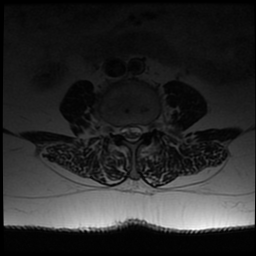CCS_normal: (127, 117, 135, 149)
LFS_normal: (143, 115, 152, 140)
LLS_normal: (135, 117, 143, 144)
RFS_normal: (112, 116, 119, 143)
RLS_normal: (119, 118, 127, 145)
